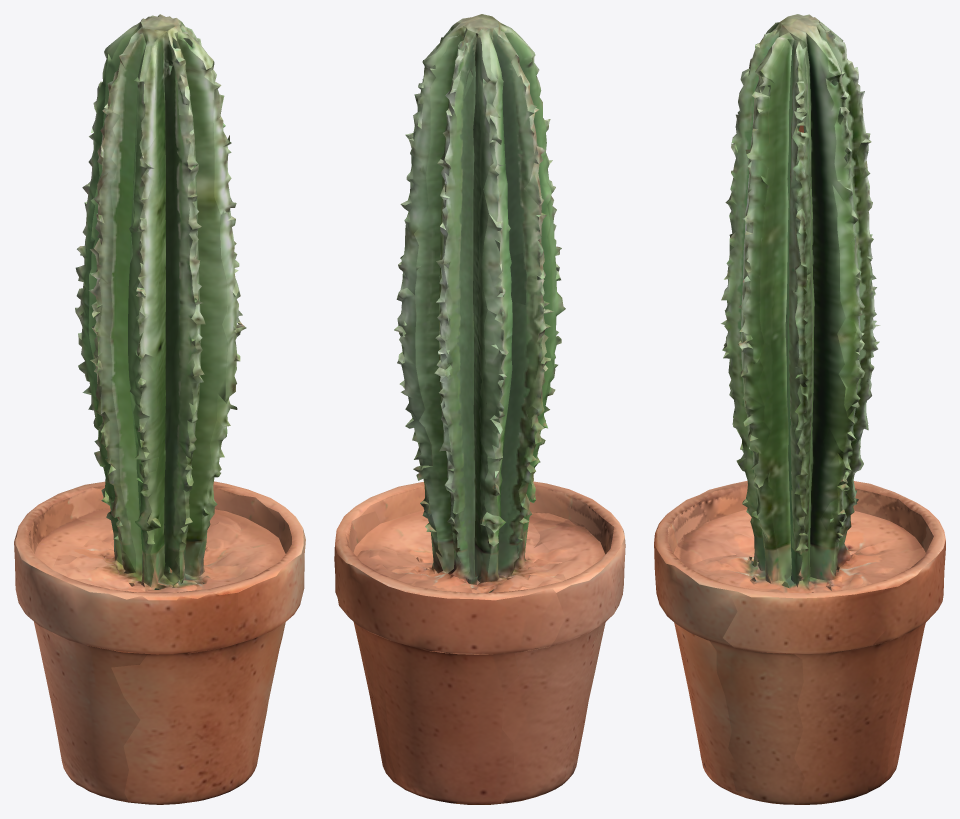
File: cactus.glb
3 renders of one model, left to right at view 1: azimuth 30°, elevation 25°; view 2: azimuth 150°, elevation 25°; view 3: azimuth 270°, elevation 25°, orthographic.
Parts seen in each view (by area): view 1: geometry_0; view 2: geometry_0; view 3: geometry_0.
Part boxes in pixels (left/top/right/bottom): geometry_0: left=14, top=14, right=305, bottom=804; geometry_0: left=334, top=14, right=625, bottom=804; geometry_0: left=654, top=14, right=945, bottom=804.
Bounding box in the file's own units: 0.1592 × 0.45 × 0.1593.
1 material, 1 textured.
